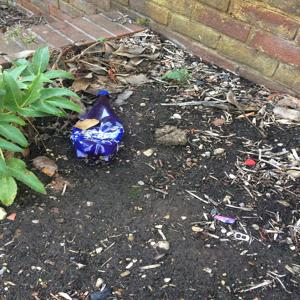metal: (234, 230, 255, 249)
plastic: (214, 211, 239, 222)
plastic bottle: (70, 82, 136, 160)
